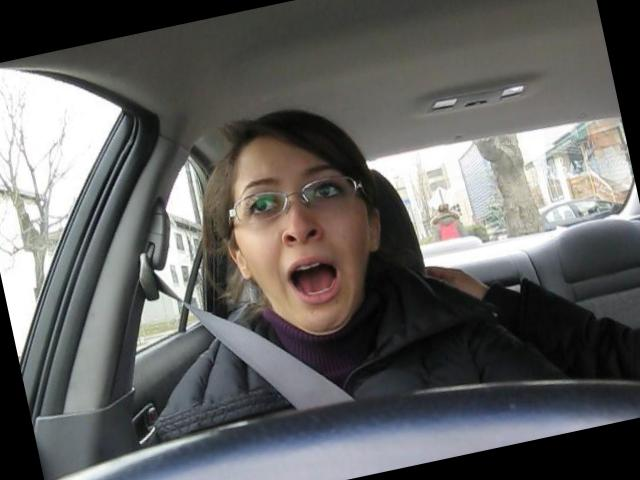eye_open: (304, 174, 348, 206), (242, 190, 284, 222)
face: (222, 146, 387, 346)
mouth_open: (276, 247, 352, 310)
